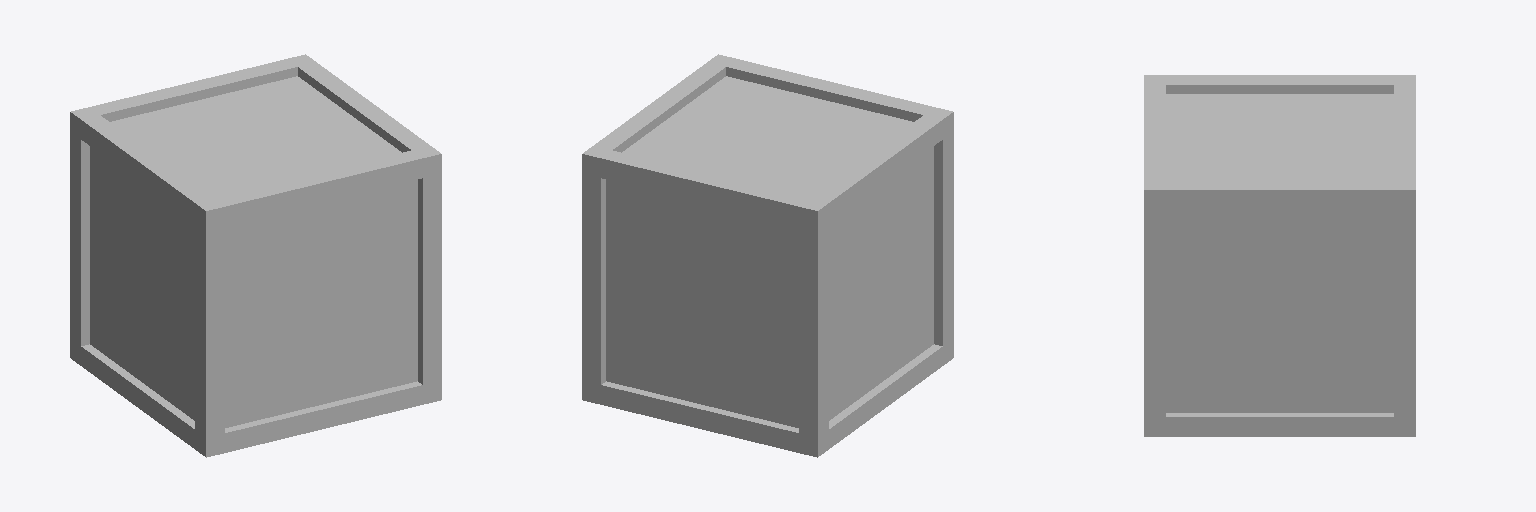
The model's file is WoodCrate.obj.
3 views of the same model, side by side, from view 1: azimuth 30°, elevation 25°; view 2: azimuth 150°, elevation 25°; view 3: azimuth 270°, elevation 25° (orthographic).
Size of the model in its own units: 1 by 1 by 1.